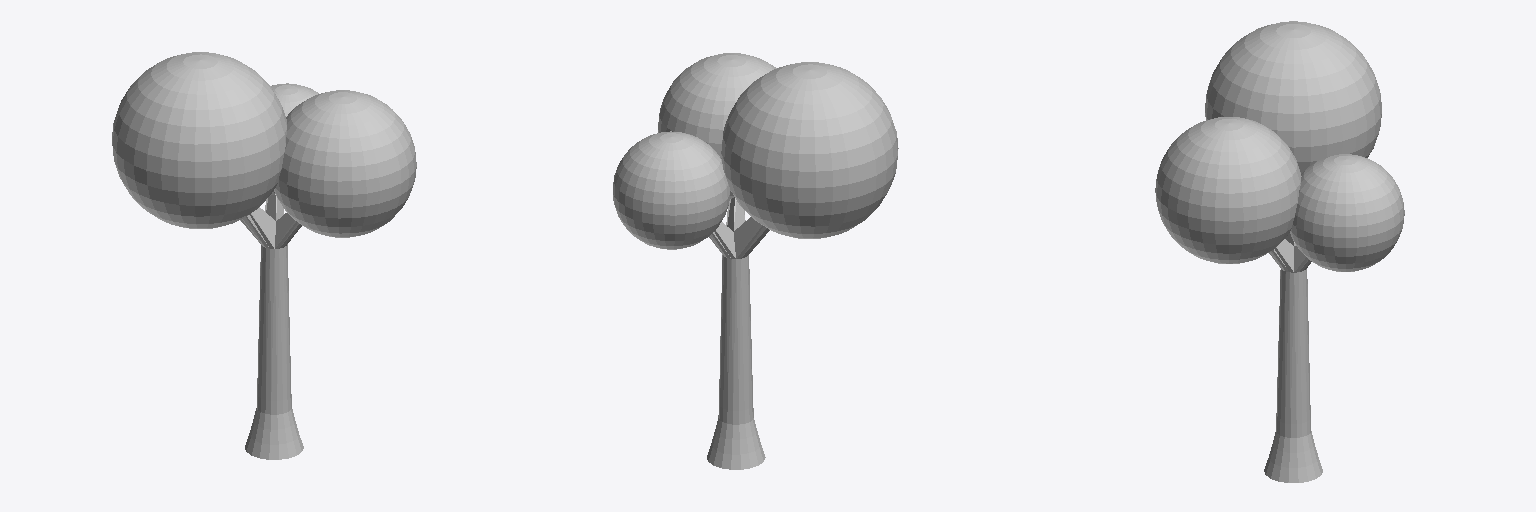
Rendered from OakTree.obj.
The picture shows the model from 3 angles: view 1: azimuth 30°, elevation 25°; view 2: azimuth 150°, elevation 25°; view 3: azimuth 270°, elevation 25°; orthographic projection.
Parts seen in each view (by area): view 1: Cylinder.001_Cylinder.005; view 2: Cylinder.001_Cylinder.005; view 3: Cylinder.001_Cylinder.005.
Part boxes in pixels (bbox=[...]): Cylinder.001_Cylinder.005: bbox=[112, 52, 416, 459]; Cylinder.001_Cylinder.005: bbox=[613, 53, 898, 469]; Cylinder.001_Cylinder.005: bbox=[1155, 21, 1404, 482].
Size of the model in its own units: 9.8 by 15.11 by 8.43.